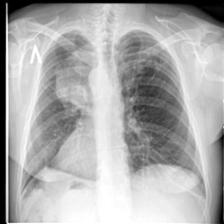tuberculosis: (14, 26, 208, 217)
